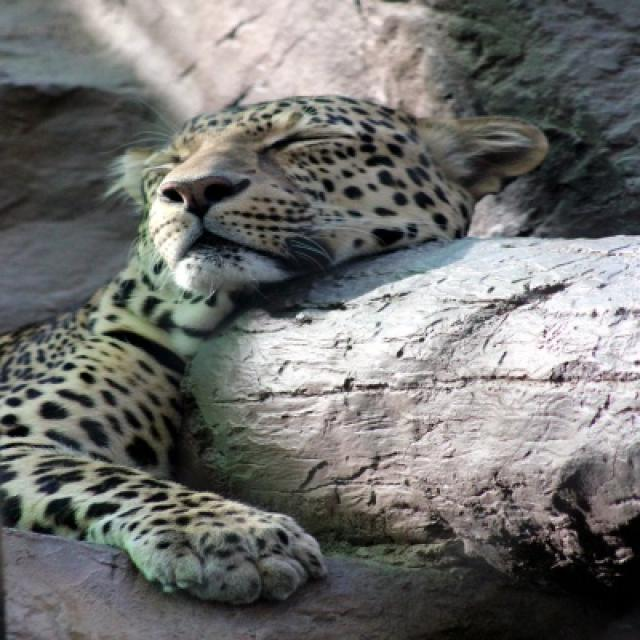Jaguar: (0, 94, 549, 608)
